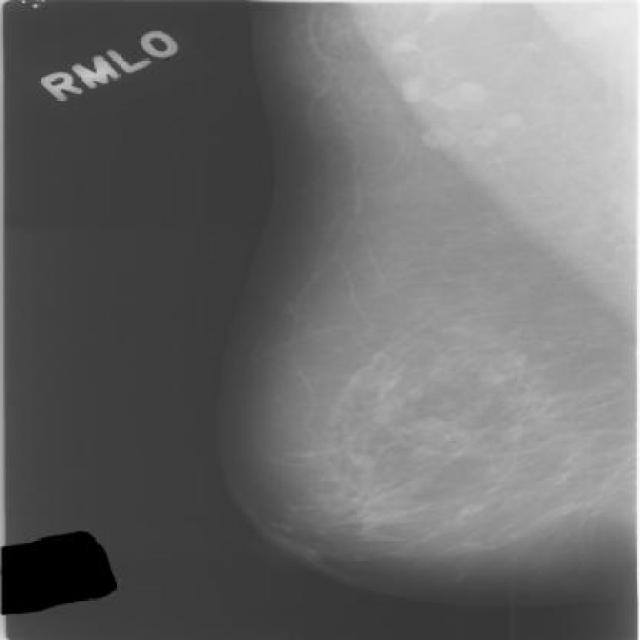tumor: (324, 311, 596, 554)
